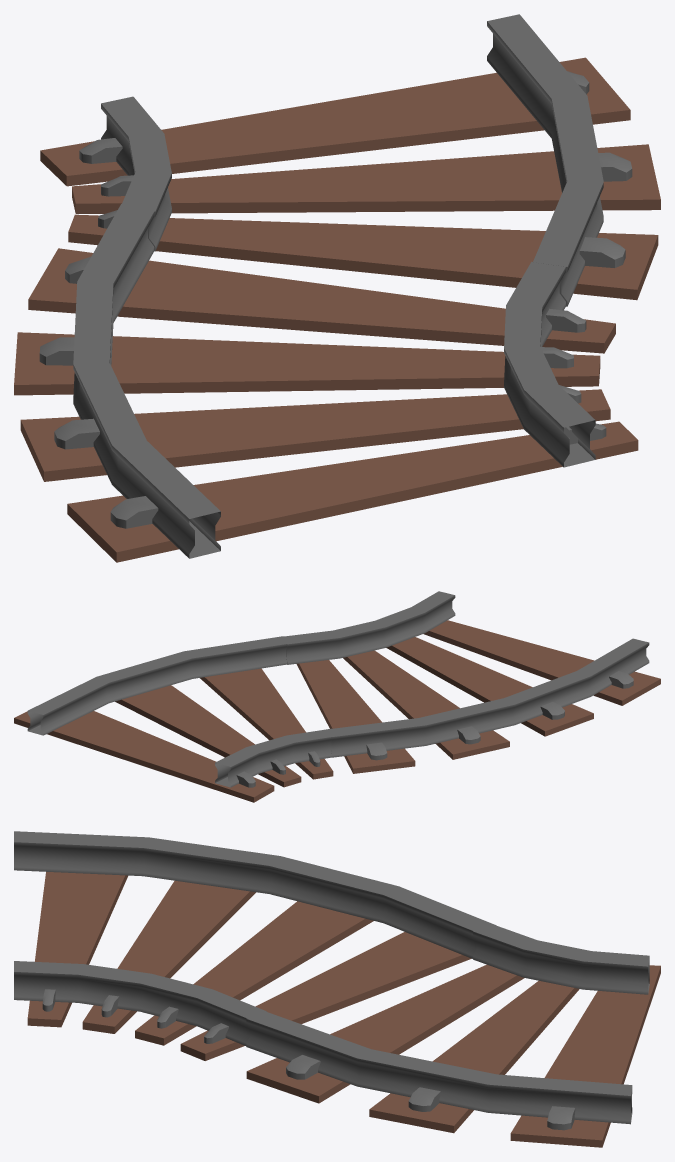
The model's file is trilho_S1.fbx.
3 renders of one model, top to bottom at view 1: azimuth 30°, elevation 25°; view 2: azimuth 150°, elevation 25°; view 3: azimuth 270°, elevation 25°, orthographic. The views are drawn at different scales.
Parts seen in each view (by area): view 1: Trilho_S1; view 2: Trilho_S1; view 3: Trilho_S1.
Boxes of the visible parts, bbox=[...] form: Trilho_S1: bbox=[14, 14, 660, 562]; Trilho_S1: bbox=[14, 591, 660, 802]; Trilho_S1: bbox=[14, 831, 660, 1147].
Bounding box in the file's own units: 344 × 19.27 × 316.
